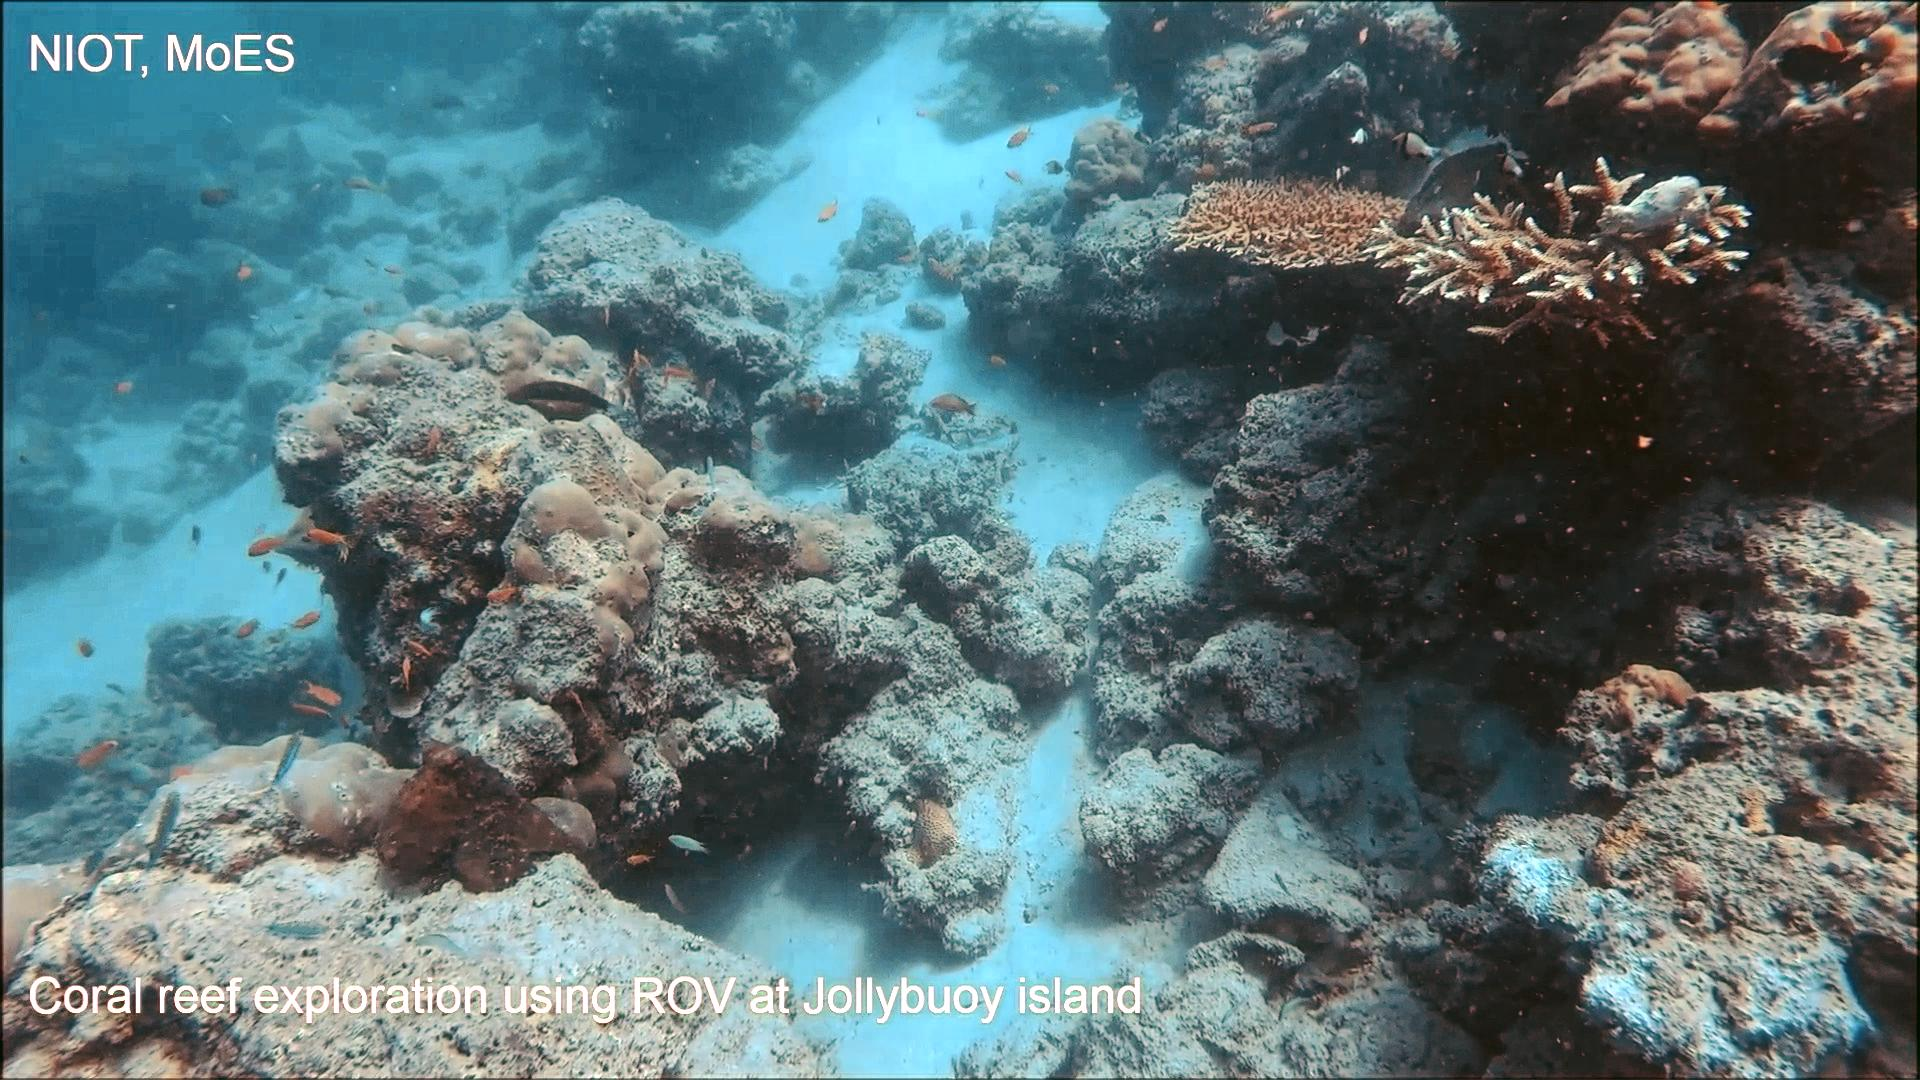Porites-Porites pukoensis: (456, 301, 717, 657)
